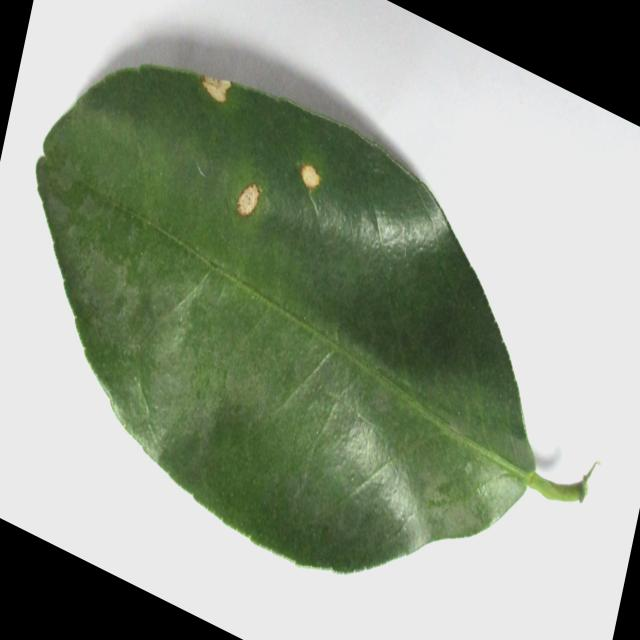antracnose: (37, 66, 592, 572), (202, 76, 231, 103), (238, 184, 260, 216), (301, 165, 320, 188)
